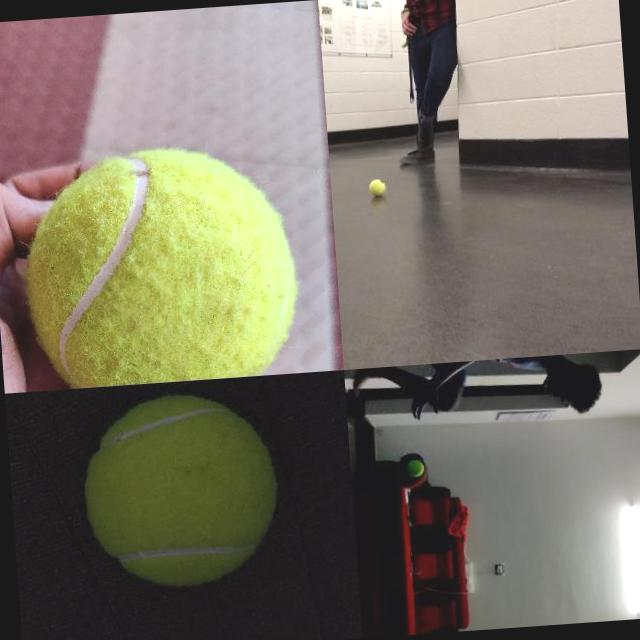Tennis Ball: (14, 137, 306, 390), (79, 388, 284, 592), (406, 458, 425, 477), (368, 178, 386, 196)
